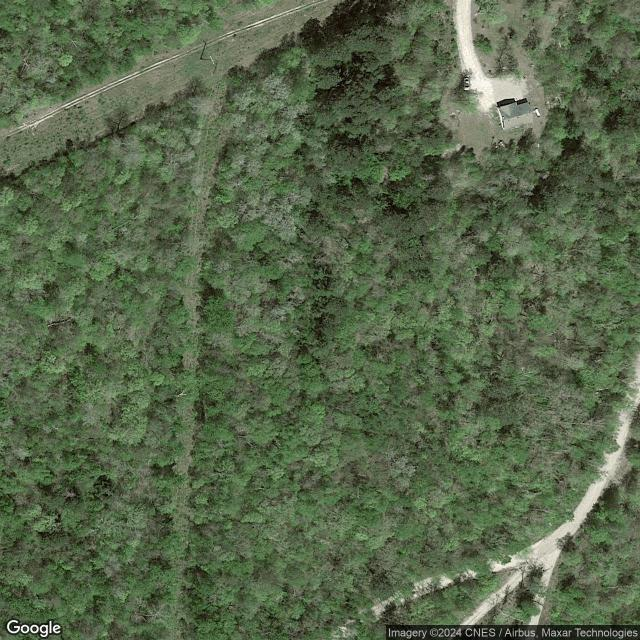Propane: (534, 106, 541, 118)
